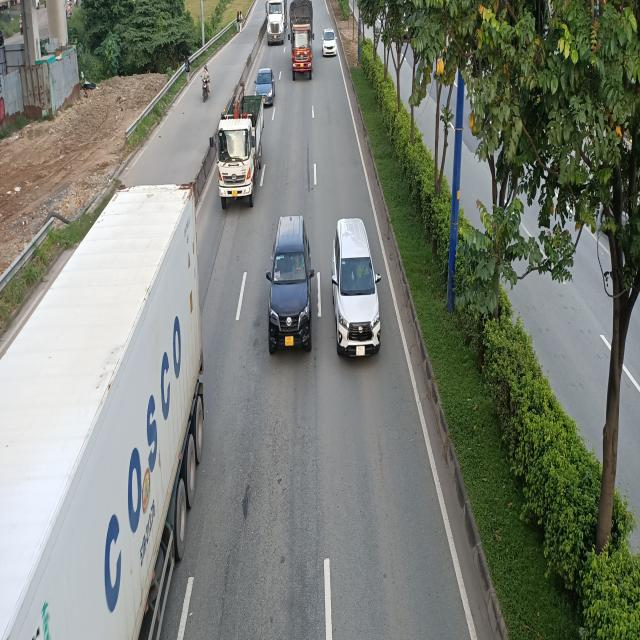car: (332, 218, 382, 358), (267, 217, 316, 353), (320, 28, 337, 56)
container: (0, 184, 204, 640), (266, 0, 287, 44)
truck: (208, 88, 264, 208), (288, 0, 314, 79)
